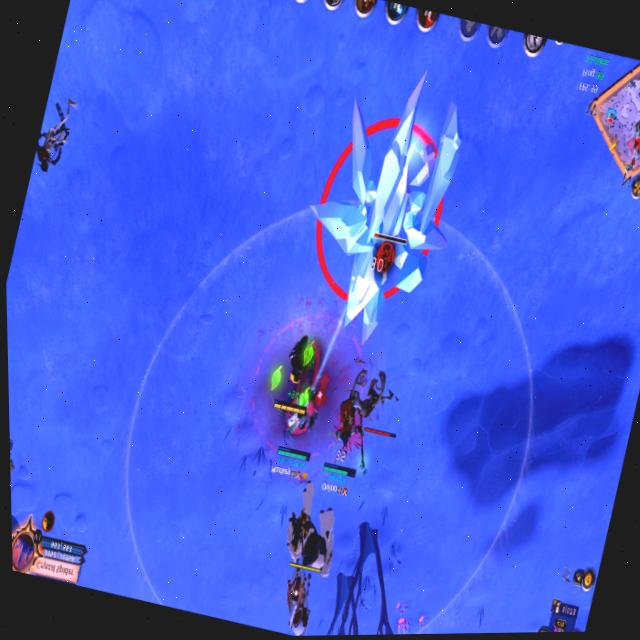ore: (289, 98, 468, 331), (27, 82, 86, 187), (340, 358, 405, 432)
red: (264, 372, 332, 487), (312, 388, 377, 504), (264, 324, 331, 424)
